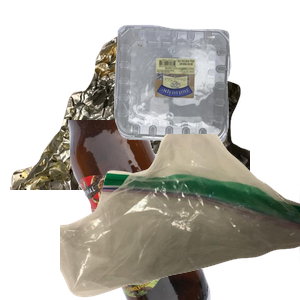glass: (65, 120, 300, 300)
metal: (10, 32, 250, 212)
plastic: (112, 22, 300, 160)
trash: (60, 134, 300, 300)
